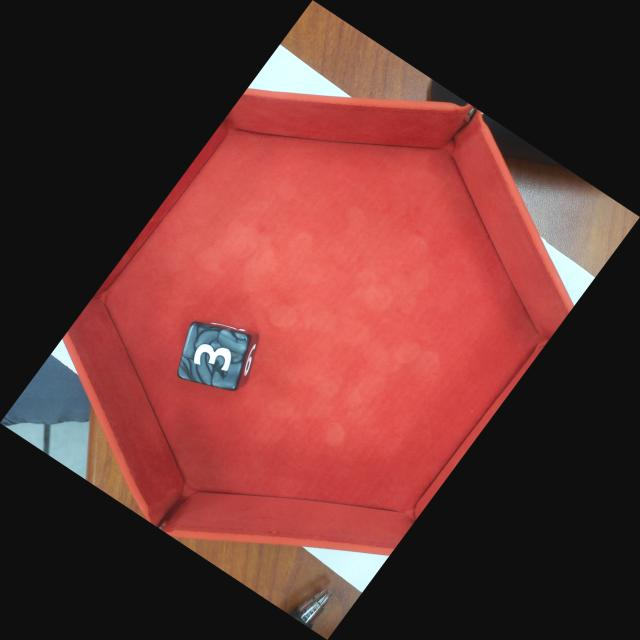dice: (174, 318, 251, 394)
